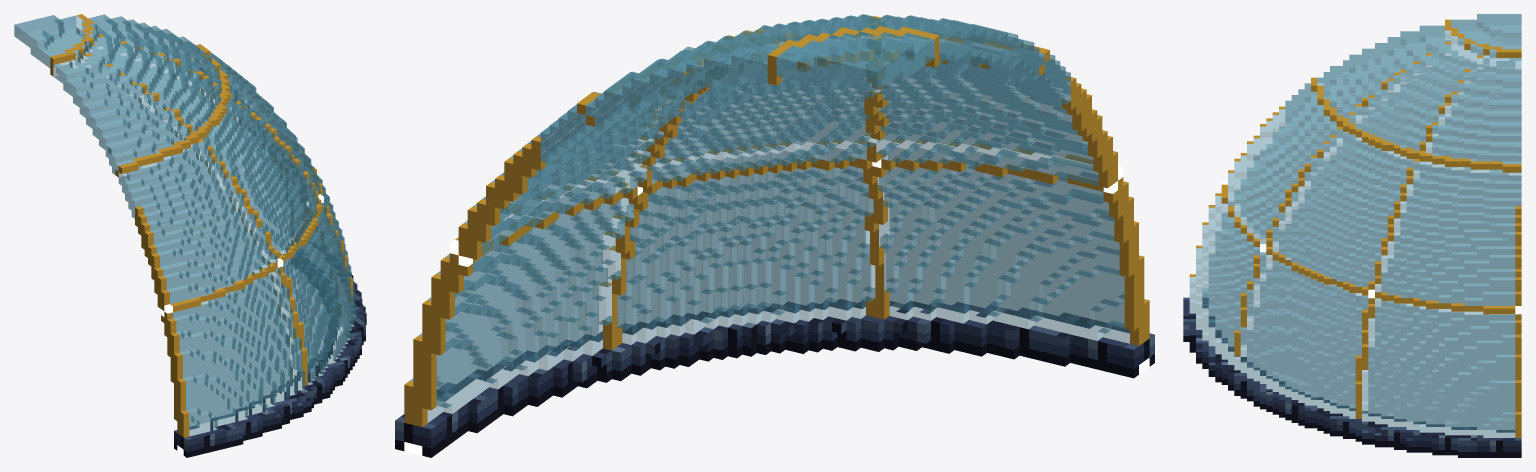
The model's file is dome_section.glb.
The picture shows the model from 3 angles, left to right: view 1: azimuth 30°, elevation 25°; view 2: azimuth 150°, elevation 25°; view 3: azimuth 270°, elevation 25°; orthographic projection. The views are drawn at different scales.
Visible parts, largest first — view 1: dome; view 2: dome; view 3: dome.
Part boxes in pixels (x1,y1,x2,y2): dome: (14,14,366,457); dome: (395,14,1154,457); dome: (1183,14,1521,457).
Bounding box in the file's own units: 3.31 × 3.25 × 3.31.
4 materials, 4 textured.
